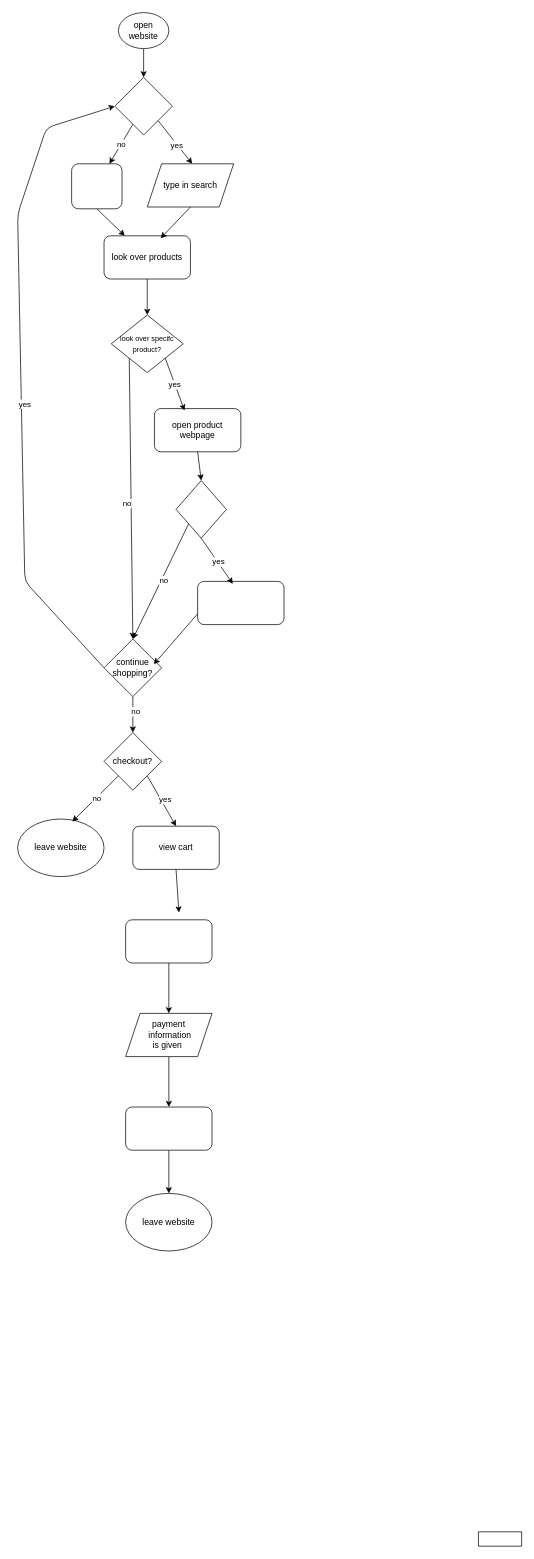
This 534x1559 diagram has some shape labels left out. Here are the shapes that lost their labels. From the top down, the centre of each, then its label:
At (x=143, y=106): "search for specifc product?".
At (x=96, y=186): "explore home page".
At (x=200, y=509): "add to cart?".
At (x=240, y=603): "cart confirmation".
At (x=168, y=941): "view payment".
At (x=168, y=1128): "order confirmation AND email".
